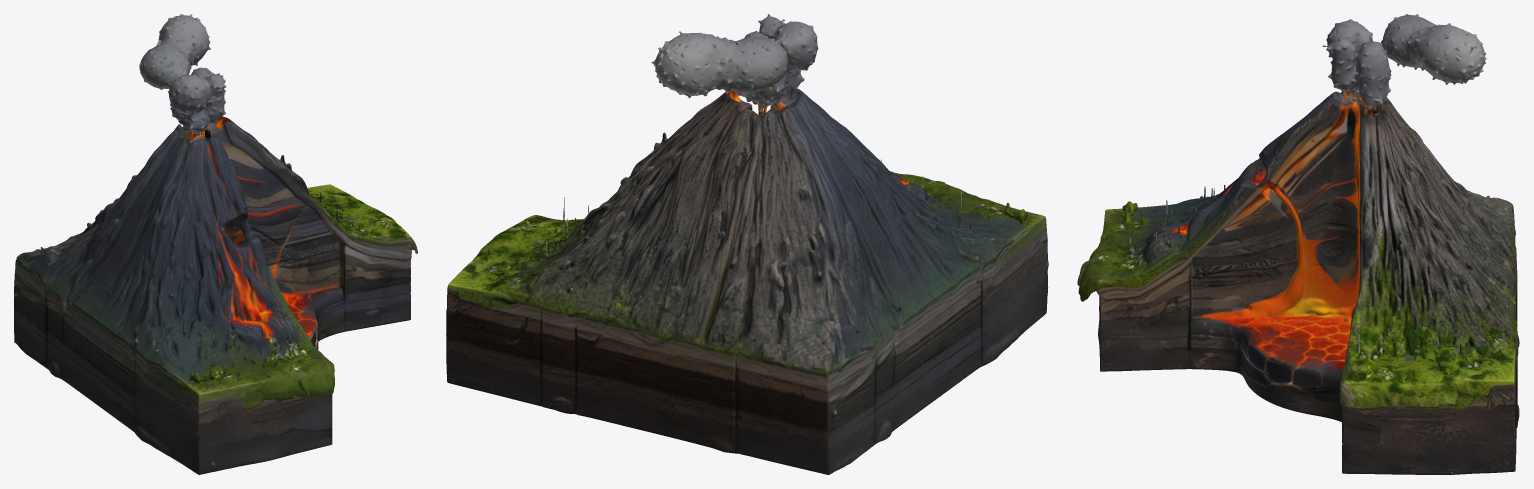
File: volcano-3d-section.glb
The picture shows the model from 3 angles, left to right: view 1: azimuth 30°, elevation 25°; view 2: azimuth 150°, elevation 25°; view 3: azimuth 270°, elevation 25°; orthographic projection. The views are drawn at different scales.
Visible parts, largest first — view 1: tripo_node_053b6aff-146b-4a6b-9646-6d032726be4e; view 2: tripo_node_053b6aff-146b-4a6b-9646-6d032726be4e; view 3: tripo_node_053b6aff-146b-4a6b-9646-6d032726be4e.
Boxes of the visible parts, x1,y1,x2,y2 form: tripo_node_053b6aff-146b-4a6b-9646-6d032726be4e: (14, 14, 417, 474); tripo_node_053b6aff-146b-4a6b-9646-6d032726be4e: (446, 14, 1048, 474); tripo_node_053b6aff-146b-4a6b-9646-6d032726be4e: (1077, 14, 1519, 474).
Bounding box in the file's own units: 0.9862 × 0.8687 × 1.
1 material, 1 textured.
